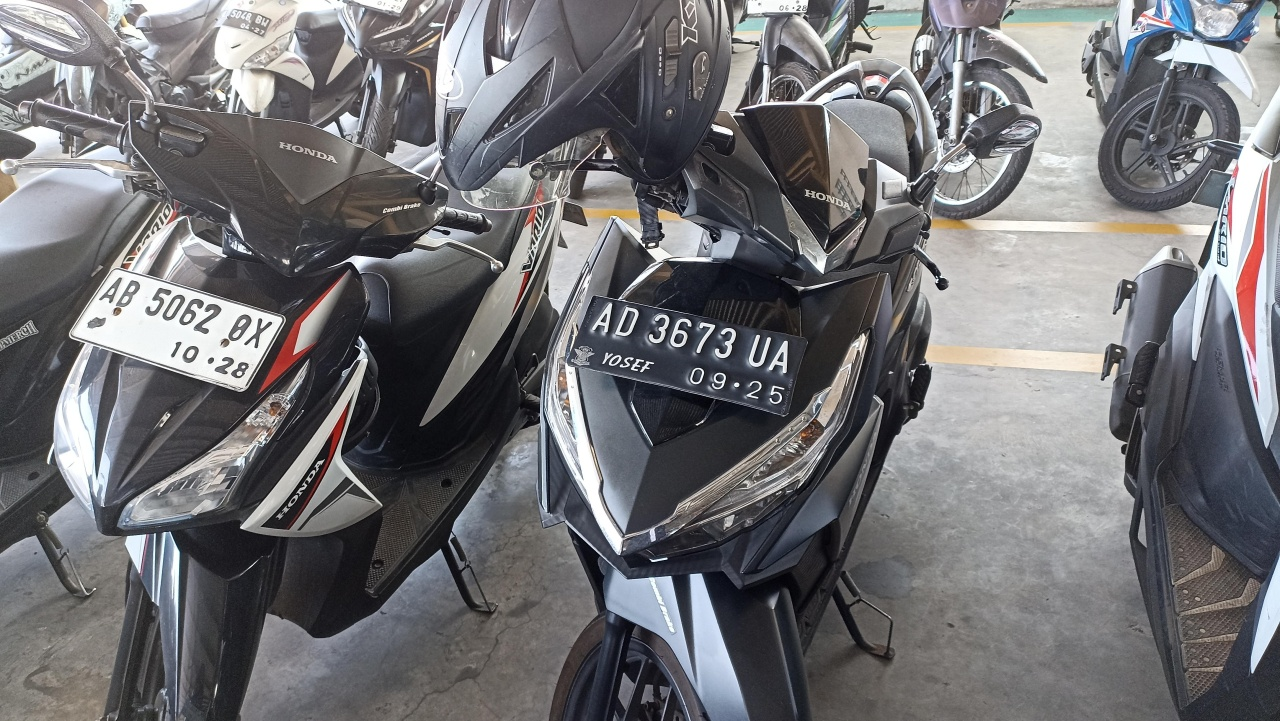plate: (564, 294, 810, 418), (69, 267, 286, 394)
